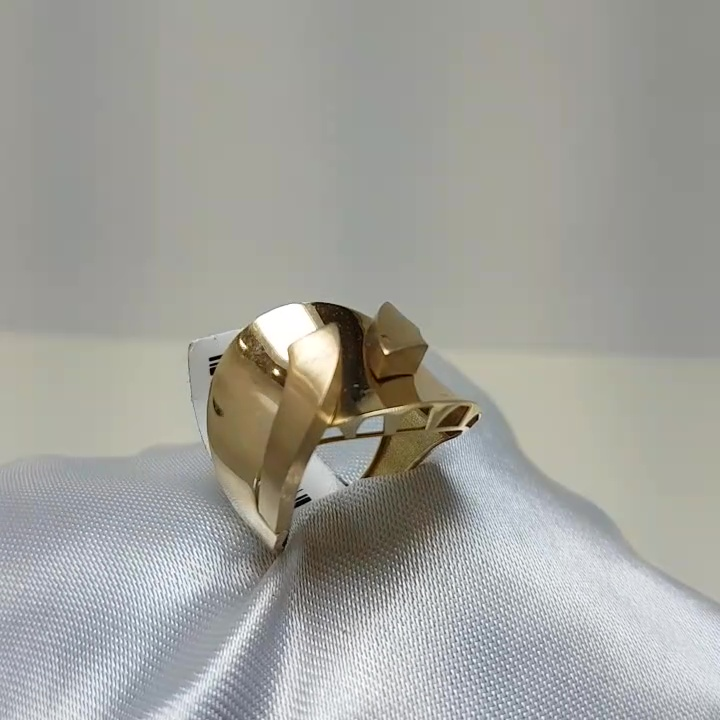Ring 4: (162, 280, 490, 580)
